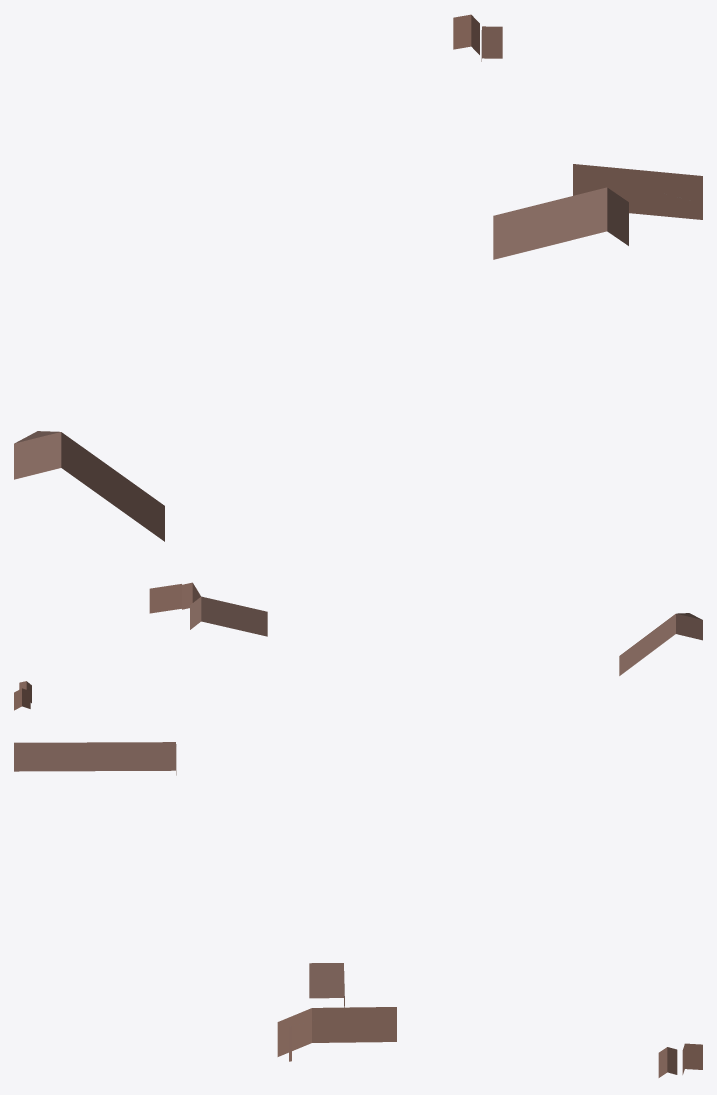
Rendered from c_1642_17836_buildings_residential.glb.
3 views of the same model, one above another, from view 1: azimuth 30°, elevation 25°; view 2: azimuth 150°, elevation 25°; view 3: azimuth 270°, elevation 25° (orthographic). The views are drawn at different scales.
Parts seen in each view (by area): view 1: geometry_0; view 2: geometry_0; view 3: geometry_0.
Boxes of the visible parts, left/top/right/bottom form: geometry_0: left=14, top=14, right=702, bottom=541; geometry_0: left=14, top=582, right=702, bottom=710; geometry_0: left=14, top=742, right=702, bottom=1077.
Size of the model in its own units: 209 by 11.08 by 196.
